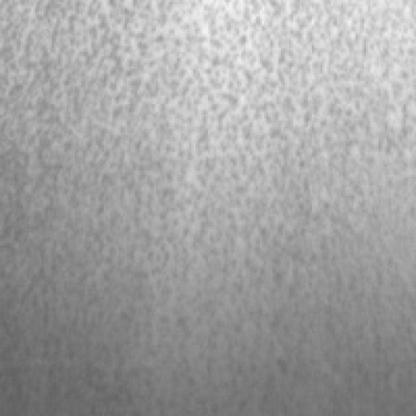pitted_surface: (0, 0, 408, 289)
